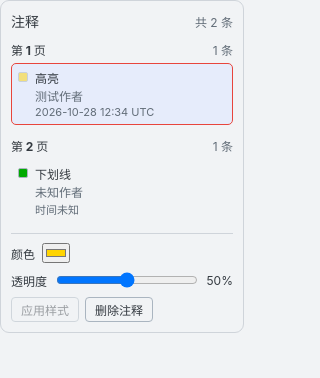
AnnotationPanel › reports a failed deletion without claiming success
Click the button "删除注释" at point(119, 310), box [85, 297, 153, 322]
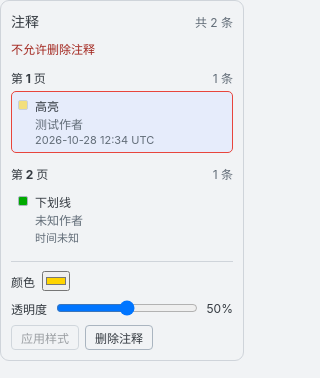
Now the message reads "不允许删除注释", box [11, 42, 95, 57]
